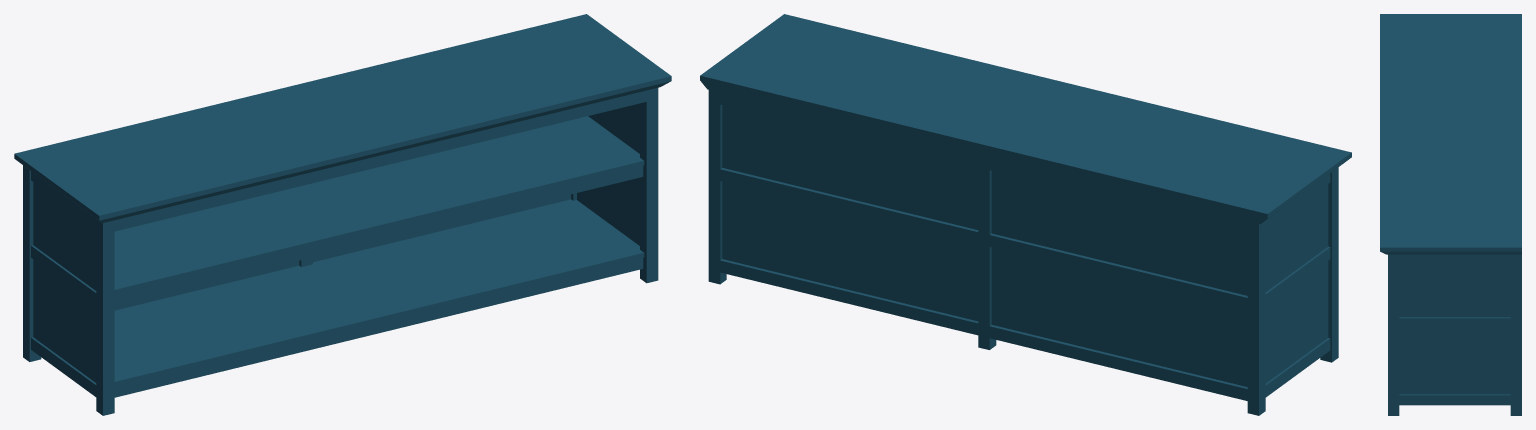
File: shelf.glb
3 renders of one model, left to right at view 1: azimuth 30°, elevation 25°; view 2: azimuth 150°, elevation 25°; view 3: azimuth 270°, elevation 25°, orthographic. The views are drawn at different scales.
Visible parts, largest first — view 1: Cube.008, Cube.006, Cube.011, Cube.004, Cube.001, Cube.003, Cube.010, Cube.012, Cube.005, Cube.009, Cube.018, Cube.002; view 2: Cube.005, Cube.008, Cube.004, Cube.001, Cube.013, Cube.007, Cube.003, Cube.014, Cube.009, Cube.018, Cube.002; view 3: Cube.008, Cube.004, Cube.001, Cube.009, Cube.018, Cube.002.
Boxes of the visible parts, bbox=[...] form: Cube.008: bbox=[14, 14, 671, 223]; Cube.006: bbox=[114, 199, 644, 386]; Cube.011: bbox=[114, 116, 644, 294]; Cube.004: bbox=[33, 103, 639, 382]; Cube.001: bbox=[23, 88, 658, 415]; Cube.003: bbox=[114, 90, 646, 231]; Cube.010: bbox=[114, 257, 643, 397]; Cube.012: bbox=[114, 165, 643, 305]; Cube.005: bbox=[114, 194, 570, 310]; Cube.009: bbox=[31, 337, 96, 396]; Cube.018: bbox=[31, 245, 96, 304]; Cube.002: bbox=[31, 171, 96, 227]; Cube.005: bbox=[722, 105, 1247, 386]; Cube.008: bbox=[700, 14, 1351, 224]; Cube.004: bbox=[1265, 184, 1328, 383]; Cube.001: bbox=[708, 90, 1338, 415]; Cube.013: bbox=[720, 168, 1247, 309]; Cube.007: bbox=[720, 259, 1247, 400]; Cube.003: bbox=[720, 92, 1247, 232]; Cube.014: bbox=[978, 167, 996, 349]; Cube.009: bbox=[1265, 338, 1330, 397]; Cube.018: bbox=[1265, 246, 1330, 305]; Cube.002: bbox=[1265, 173, 1330, 229]; Cube.008: bbox=[1380, 14, 1521, 254]; Cube.004: bbox=[1399, 263, 1510, 394]; Cube.001: bbox=[1388, 254, 1521, 415]; Cube.009: bbox=[1399, 394, 1510, 405]; Cube.018: bbox=[1399, 317, 1510, 328]; Cube.002: bbox=[1399, 254, 1510, 263].
Bounding box in the file's own units: 2.51 × 0.8636 × 0.6461.
